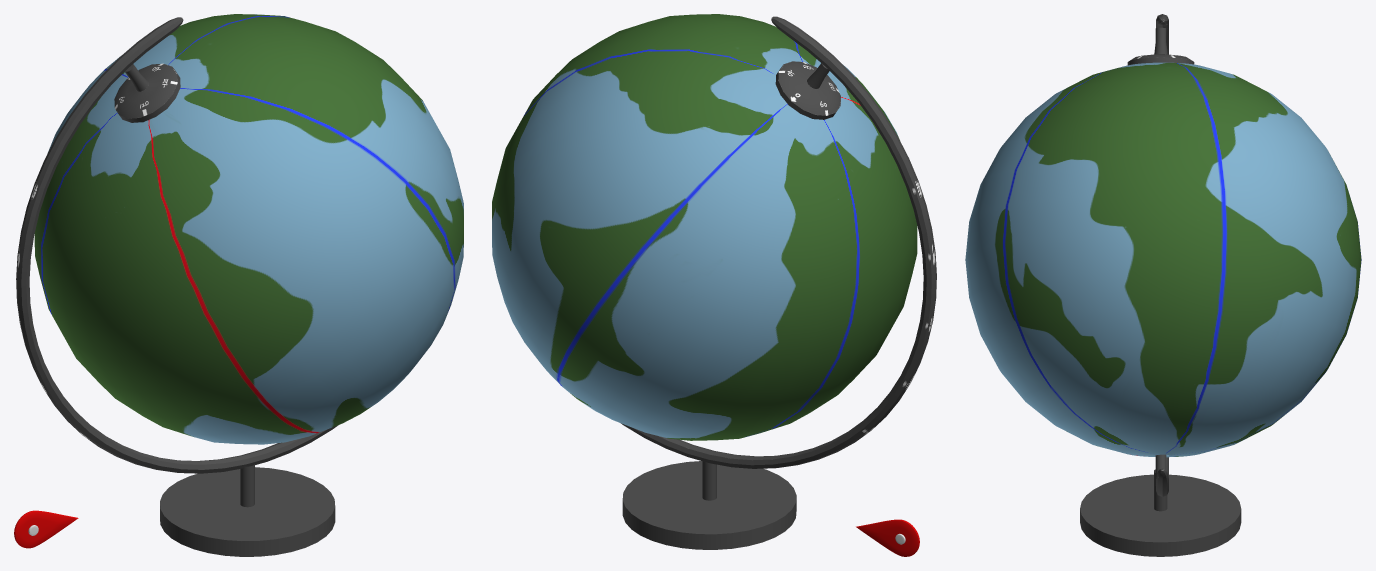
Rendered from earthmake.fbx.
3 views of the same model, side by side, from view 1: azimuth 30°, elevation 25°; view 2: azimuth 150°, elevation 25°; view 3: azimuth 270°, elevation 25° (orthographic). The views are drawn at different scales.
Parts seen in each view (by area): view 1: Sphere.001, Cylinder, Cylinder.001, Cylinder.002, Cylinder.003; view 2: Sphere.001, Cylinder, Cylinder.001, Cylinder.002, Cylinder.003; view 3: Sphere.001, Cylinder, Cylinder.002, Cylinder.001.
Boxes of the visible parts, x1=… form: Sphere.001: x1=34, y1=14, x2=463, y2=444; Cylinder: x1=160, y1=464, x2=335, y2=556; Cylinder.001: x1=16, y1=17, x2=338, y2=473; Cylinder.002: x1=114, y1=63, x2=180, y2=122; Cylinder.003: x1=14, y1=510, x2=78, y2=548; Sphere.001: x1=492, y1=14, x2=917, y2=440; Cylinder: x1=622, y1=461, x2=796, y2=549; Cylinder.001: x1=621, y1=16, x2=936, y2=468; Cylinder.002: x1=775, y1=61, x2=840, y2=119; Cylinder.003: x1=856, y1=519, x2=919, y2=556; Sphere.001: x1=965, y1=62, x2=1361, y2=457; Cylinder: x1=1080, y1=469, x2=1241, y2=556; Cylinder.002: x1=1127, y1=27, x2=1194, y2=485; Cylinder.001: x1=1156, y1=14, x2=1168, y2=496.
Bounding box in the file's own units: 0.4711 × 0.42 × 0.5553.
6 materials, 3 textured.
